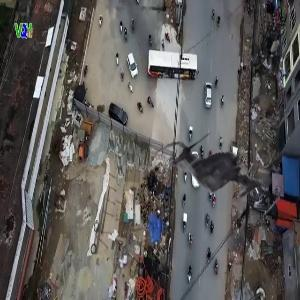drone: (161, 115, 276, 230)
